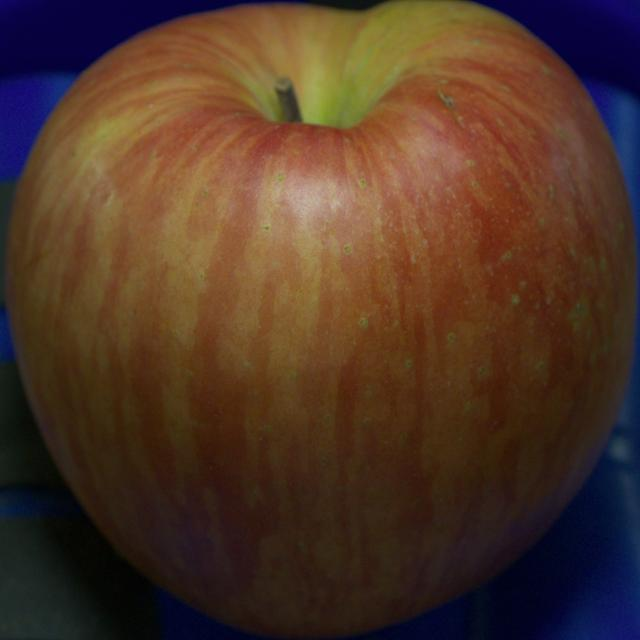apple: (6, 0, 636, 636)
scratch: (438, 89, 463, 128)
